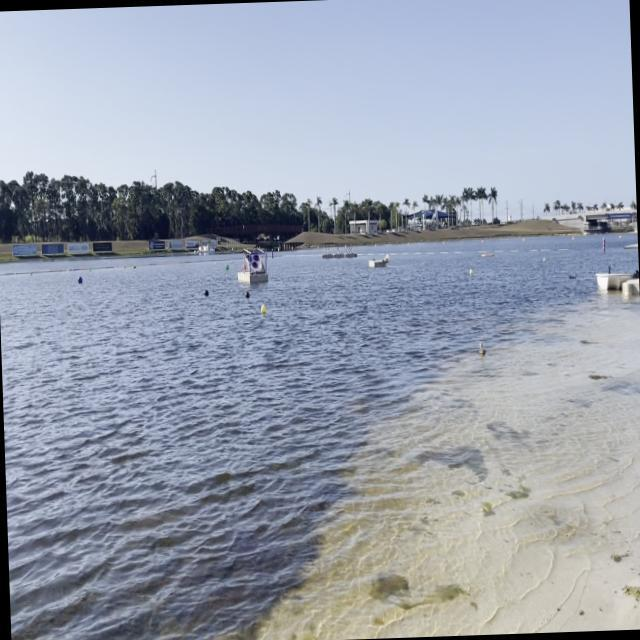buoy: (260, 304, 266, 314), (632, 269, 638, 279), (203, 288, 209, 297), (244, 290, 250, 298), (78, 276, 82, 284), (468, 269, 474, 274), (224, 263, 228, 270), (242, 264, 246, 270), (543, 258, 545, 262)
